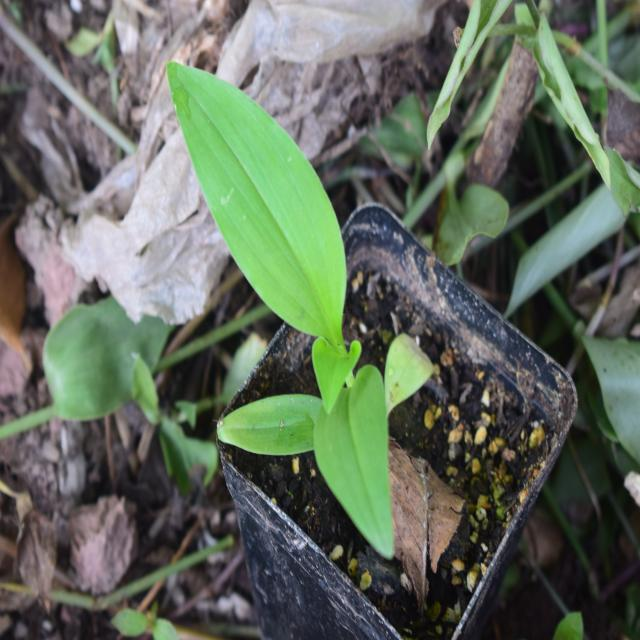Common Dayflower: (163, 76, 409, 533)
